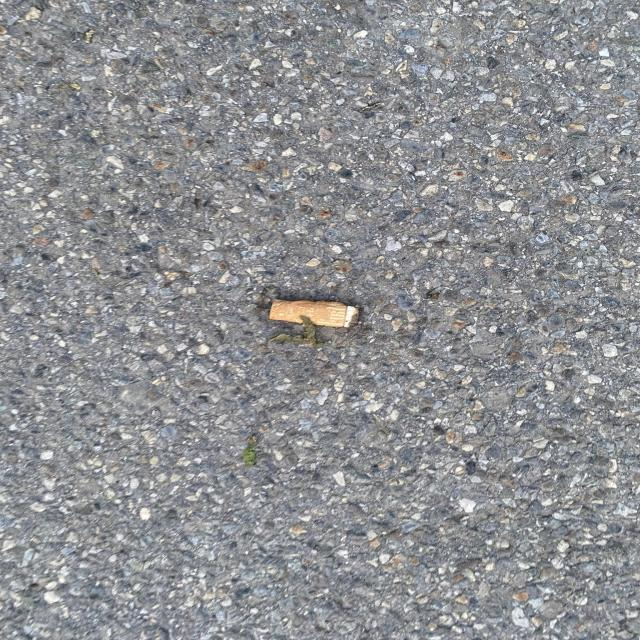other waste: (269, 298, 362, 328)
